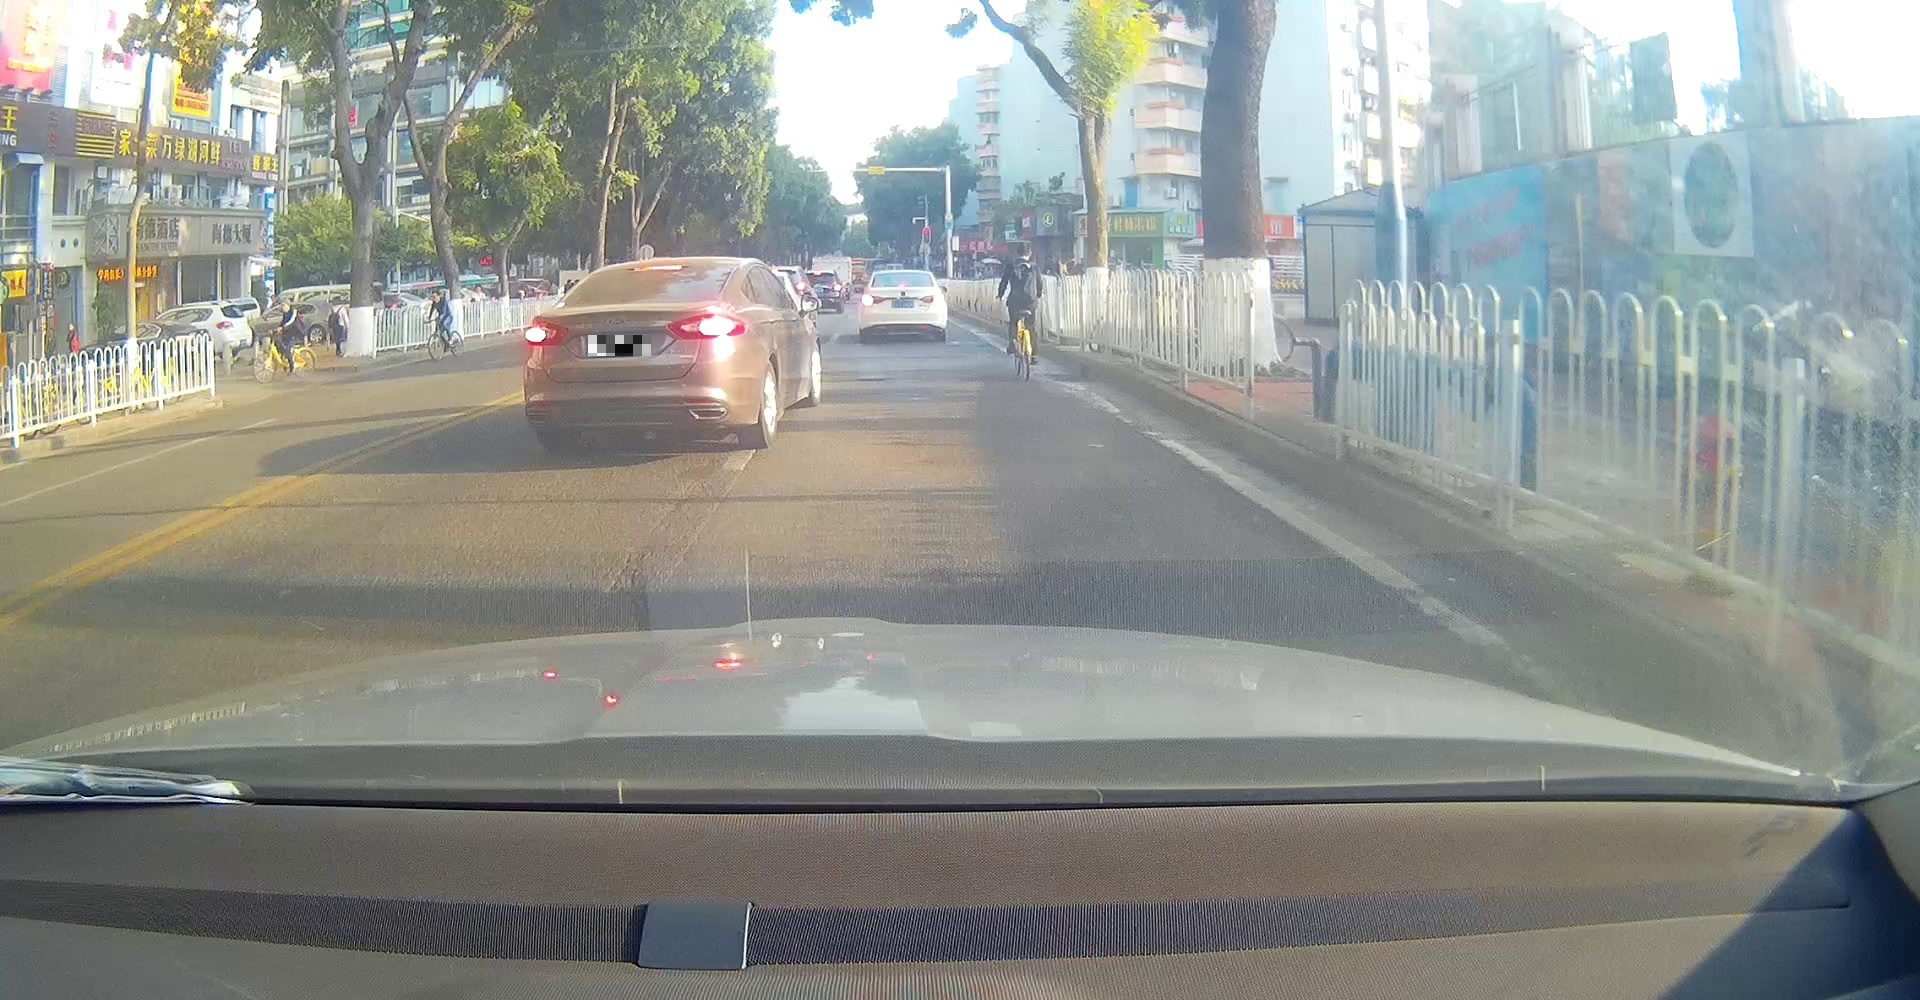L_light: (524, 317, 568, 345), (861, 293, 885, 307)
R_light: (665, 310, 745, 340), (919, 293, 947, 306)
T_light: (632, 268, 682, 283), (897, 283, 913, 287)
day-brake: (521, 261, 748, 454), (860, 269, 947, 341)
plate_1: (588, 335, 651, 357)
